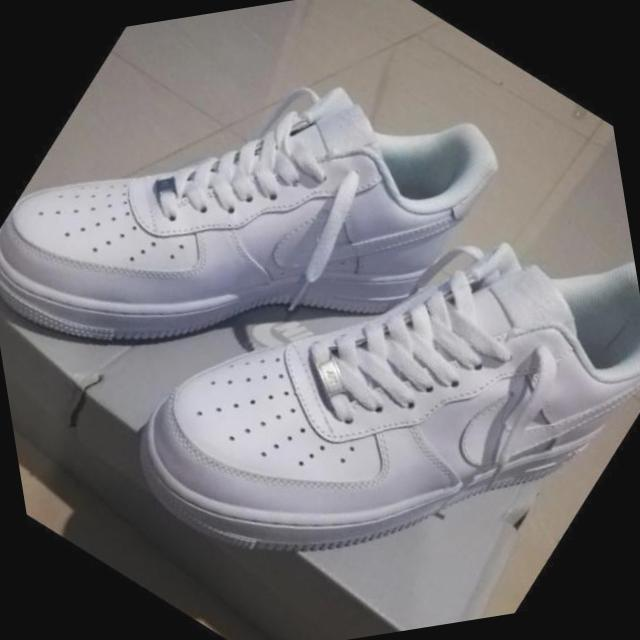nike_original_airforce: (56, 45, 640, 640), (0, 0, 561, 533)
